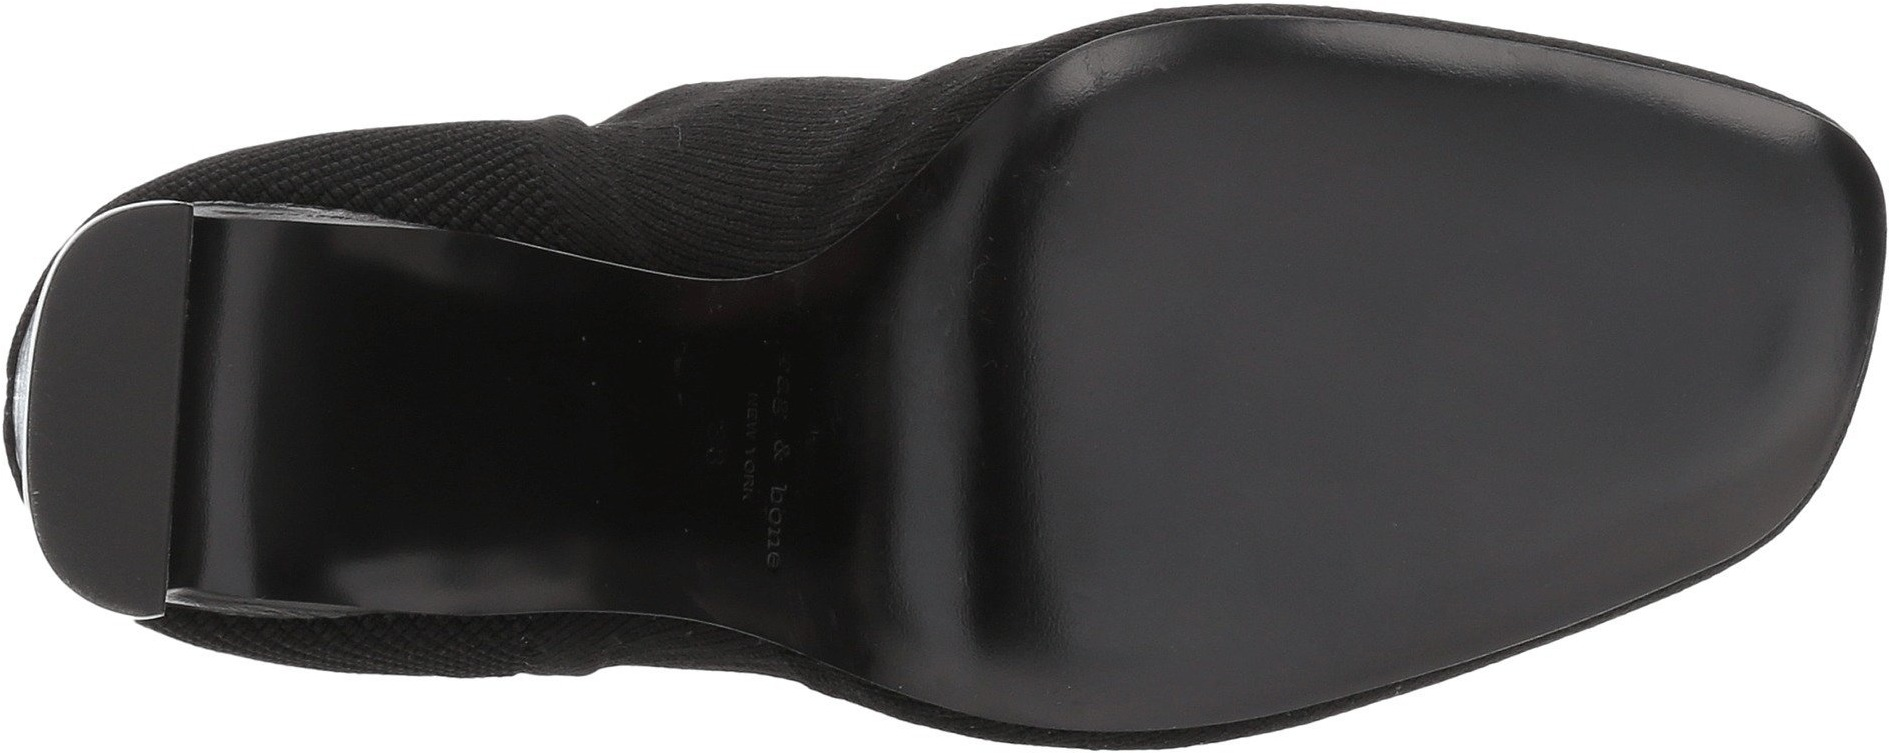other: (1117, 346, 1431, 655), (1114, 47, 1424, 342), (813, 273, 1110, 566), (1444, 73, 1722, 364), (1444, 371, 1644, 595), (1653, 373, 1800, 514), (966, 145, 1097, 271), (39, 306, 170, 417)
